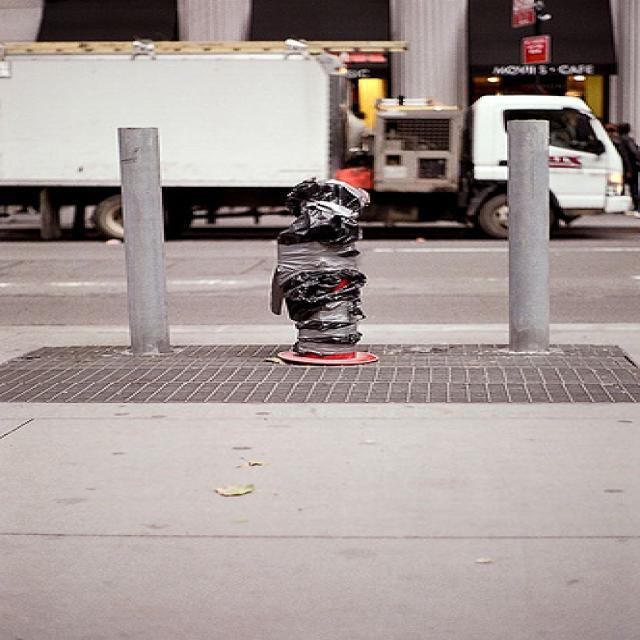fire_hydrant: (276, 174, 378, 365)
